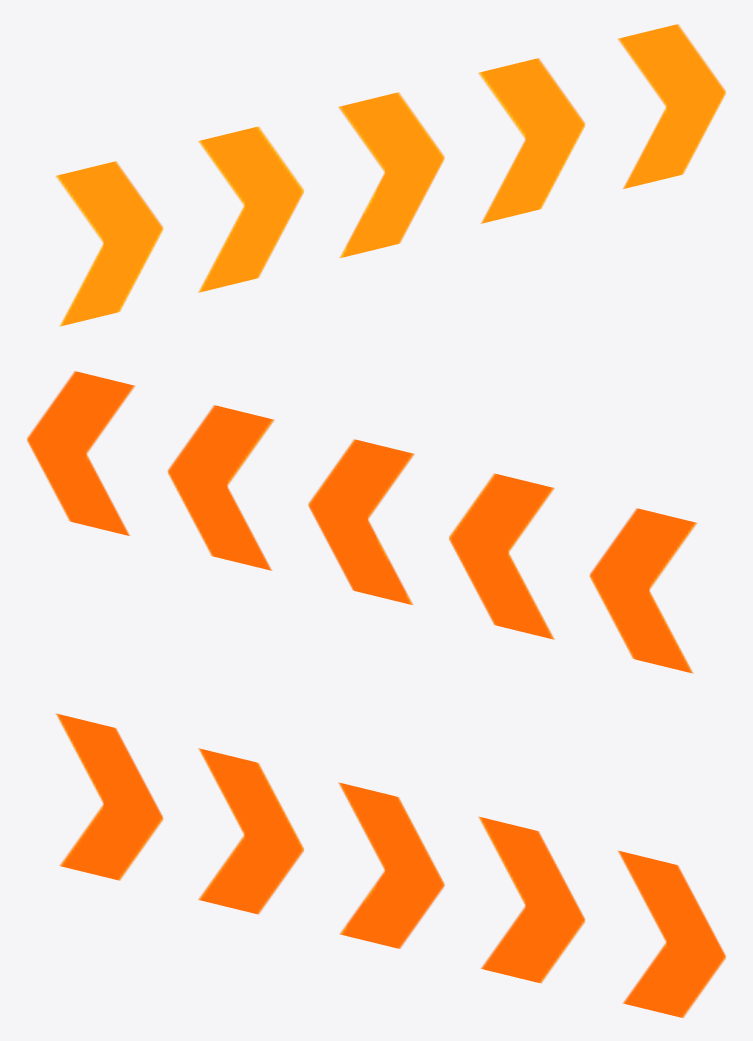
Rendered from Red.glb.
3 views of the same model, one above another, from view 1: azimuth 30°, elevation 25°; view 2: azimuth 150°, elevation 25°; view 3: azimuth 330°, elevation 25° (orthographic).
Parts seen in each view (by area): view 1: Emissive Arrow Sign_0; view 2: Emissive Arrow Sign_0; view 3: Emissive Arrow Sign_0.
Boxes of the visible parts, x1,y1,x2,y2 form: Emissive Arrow Sign_0: (55, 24, 725, 326); Emissive Arrow Sign_0: (27, 371, 697, 673); Emissive Arrow Sign_0: (56, 713, 725, 1017).
Size of the model in its own units: 10 by 2 by 1.15e-06.
1 material, 1 textured.
